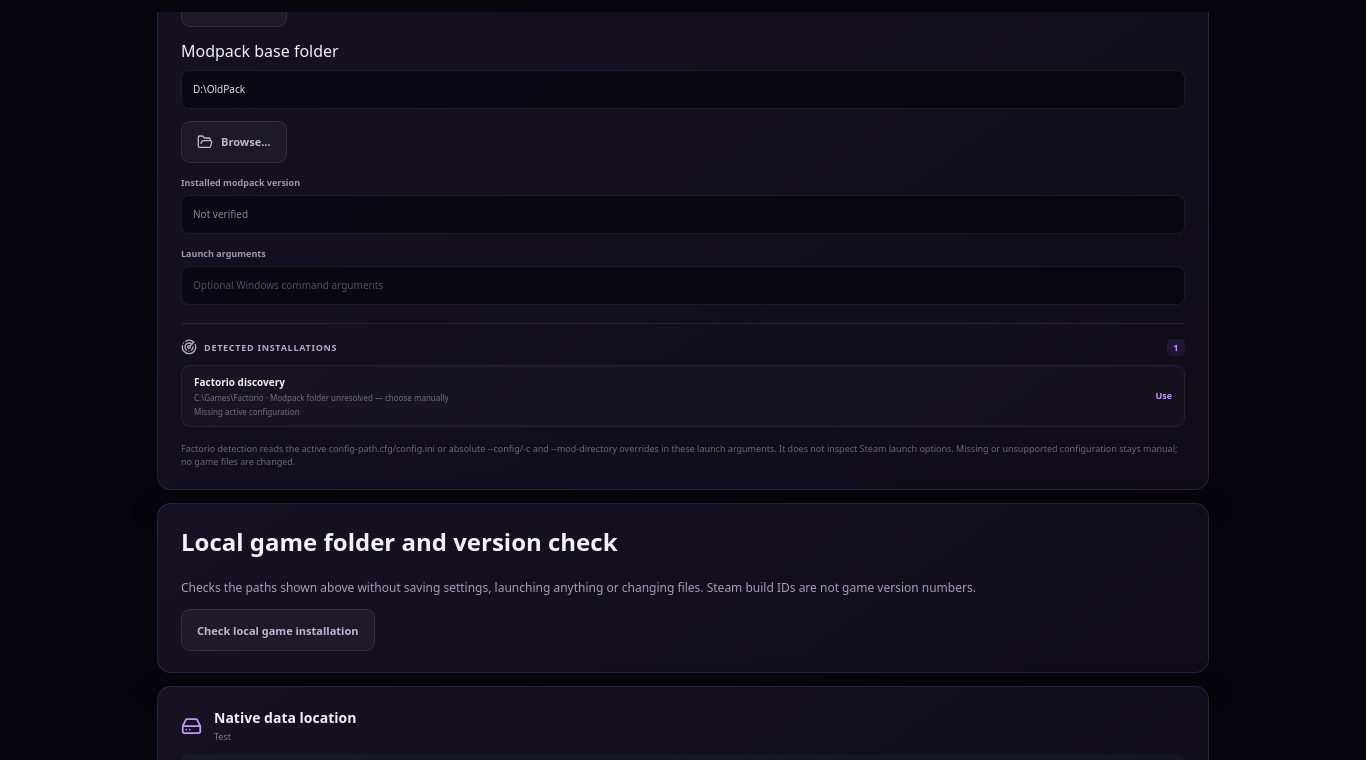
Test: Mythic Loot launcher shell › keeps unresolved Factorio targets blank and invalidates discovery after argument edits
The image size is (1366, 760).
(page scrolled)
Click the button "Factorio discovery" at (239,382), box [181,365,1185,427]
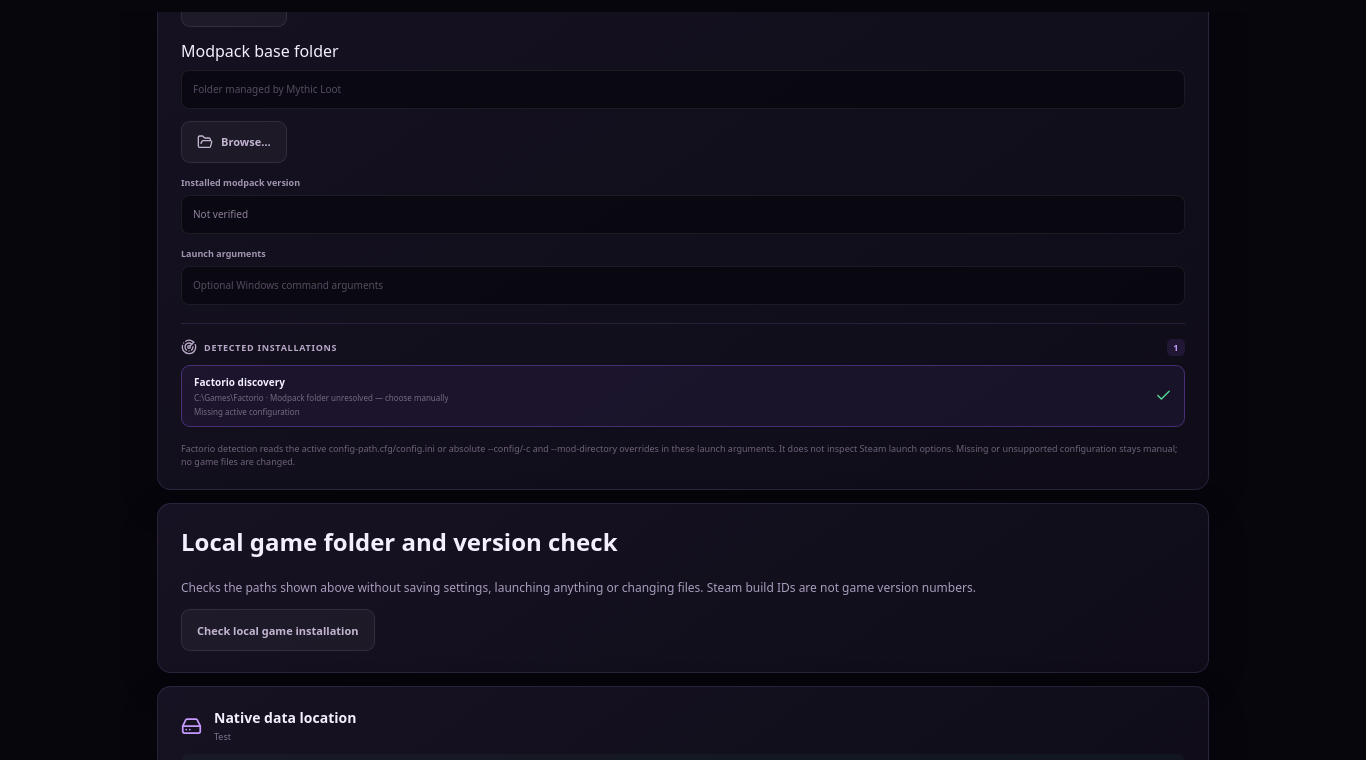
Check: the text "Modpack folder unresolved" is shown, box [194,392,448,403]
Check: the field labelled "Modpack base folder" is empty, box [181,70,1185,109]
Type "--mod-directory D:\\Other" into the field labelled "Launch arguments" at (683,286), box [181,266,1185,305]
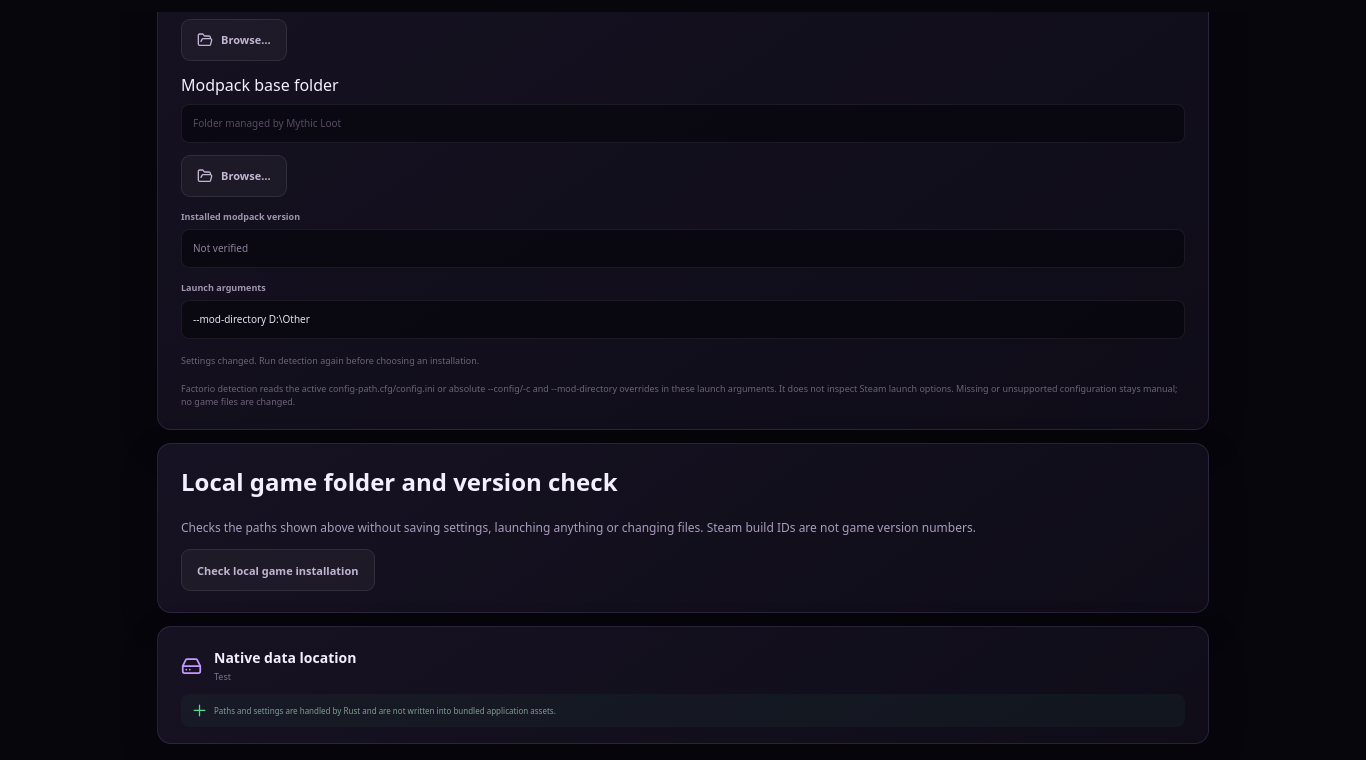
Check: the button "Factorio discovery" is gone
Check: the text "Settings changed. Run detection again" is shown, box [181,354,479,367]
